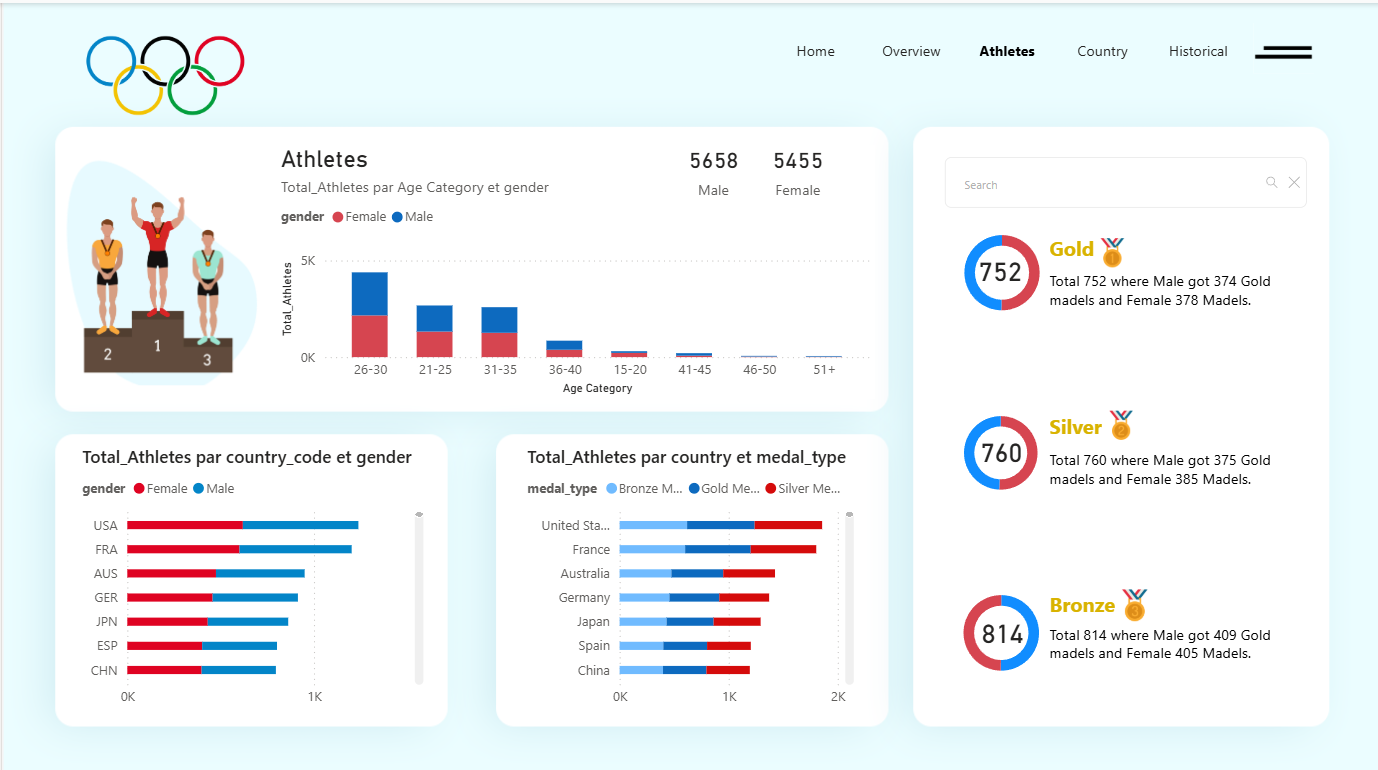

The dashboard page shown, as its layout file describes it:
{"tool":"powerbi","page":{"name":"Athletes","canvas":[1280,720],"ordinal":2},"visuals":[{"type":"barChart","fields":{"Category":["athletes.country_code"],"Series":["medallists.gender"],"Y":["Olympic_Measures.Total_Athletes"]},"box":[70,411,327.5,252.9],"z":0},{"type":"barChart","fields":{"Category":["athletes.country"],"Series":["medallists.medal_type"],"Y":["Olympic_Measures.Total_Athletes"]},"box":[483.3,411,313.9,252.9],"z":1000},{"type":"card","title":"Silver","fields":{"Values":["Olympic_Measures.Total_Silver_Madels"]},"box":[894.7,392.6,71.1,50.1],"z":2000},{"type":"card","title":"Bronze","fields":{"Values":["Olympic_Measures.Total_Bronze_Madels"]},"box":[894.7,558,73.4,55.9],"z":3000},{"type":"card","title":"Gold","fields":{"Values":["Olympic_Measures.Total_Gold_Madels"]},"box":[890,223.7,78,52.4],"z":4000},{"type":"image","box":[1007.6,214.3,48.9,37.3],"z":5000},{"type":"image","box":[1032.1,540.5,43.1,39.6],"z":6000},{"type":"image","title":"21 Image","box":[1015.8,373.9,48.9,37.3],"z":7000},{"type":"donutChart","title":"Gold","fields":{"Category":["medallists.gender"],"Y":["Olympic_Measures.Total_Gold_Madels"]},"box":[843.8,202.5,172.5,97.5],"z":8000},{"type":"donutChart","title":"Gold","fields":{"Category":["medallists.gender"],"Y":["Olympic_Measures.Total_Silver_Madels"]},"box":[813.1,370.4,233,95.5],"z":9000},{"type":"donutChart","title":"Gold","fields":{"Category":["medallists.gender"],"Y":["Olympic_Measures.Total_Bronze_Madels"]},"box":[869,537,122.3,97.9],"z":10000},{"type":"shape","title":"Gold","box":[973.9,215.5,219,72.2],"z":11000},{"type":"shape","title":"Silver","box":[973.9,380.9,219,73.4],"z":12000},{"type":"shape","title":"Bronze","box":[973.9,546.3,219,67.6],"z":13000},{"type":"textSearchSlicerF85E2E78BE4A4D7D9F99ED75B5D71C85","fields":{"fields":["athletes.name"]},"box":[867.5,133.8,356.2,68.8],"z":14000},{"type":"image","box":[10.8,124.9,261.8,236.5],"z":15000},{"type":"columnChart","title":"Athletes","fields":{"Category":["athletes.Age Category"],"Series":["athletes.gender"],"Y":["Olympic_Measures.Total_Athletes"]},"box":[255,132.5,557.5,236.2],"z":16000},{"type":"card","title":"Gold","fields":{"Values":["Olympic_Measures.Total_Female_Athletes"]},"box":[701.2,116.2,78.8,77.5],"z":17000},{"type":"card","title":"Gold","fields":{"Values":["Olympic_Measures.Total_Male_Athletes"]},"box":[623.8,125,77.5,61.2],"z":18000},{"type":"actionButton","box":[1163.4,18.8,56.4,47],"z":19000},{"type":"image","box":[67.4,0,170.9,133.7],"z":20000},{"type":"pageNavigator","box":[717.4,18.8,439.3,49.7],"z":21000}]}

Visuals, with their boxes in screenshot pixels (x1, y1, x2, y2), scaled from the page's 1280x720 canvas onto the 1378x770 screenshot:
barChart - athletes.country_code x medallists.gender: <bbox>75, 440, 428, 710</bbox>
barChart - athletes.country x medallists.medal_type: <bbox>520, 440, 858, 710</bbox>
"Silver" card: <bbox>963, 420, 1040, 473</bbox>
"Bronze" card: <bbox>963, 597, 1042, 657</bbox>
"Gold" card: <bbox>958, 239, 1042, 295</bbox>
image: <bbox>1085, 229, 1137, 269</bbox>
image: <bbox>1111, 578, 1158, 620</bbox>
"21 Image" image: <bbox>1094, 400, 1146, 440</bbox>
"Gold" donutChart: <bbox>908, 217, 1094, 321</bbox>
"Gold" donutChart: <bbox>875, 396, 1126, 498</bbox>
"Gold" donutChart: <bbox>936, 574, 1067, 679</bbox>
"Gold" shape: <bbox>1048, 230, 1284, 308</bbox>
"Silver" shape: <bbox>1048, 407, 1284, 486</bbox>
"Bronze" shape: <bbox>1048, 584, 1284, 657</bbox>
textSearchSlicerF85E2E78BE4A4D7D9F99ED75B5D71C85 - athletes.name: <bbox>934, 143, 1317, 217</bbox>
image: <bbox>12, 134, 293, 386</bbox>
"Athletes" columnChart: <bbox>275, 142, 875, 394</bbox>
"Gold" card: <bbox>755, 124, 840, 207</bbox>
"Gold" card: <bbox>672, 134, 755, 199</bbox>
actionButton: <bbox>1252, 20, 1313, 70</bbox>
image: <bbox>73, 0, 257, 143</bbox>
pageNavigator: <bbox>772, 20, 1245, 73</bbox>
